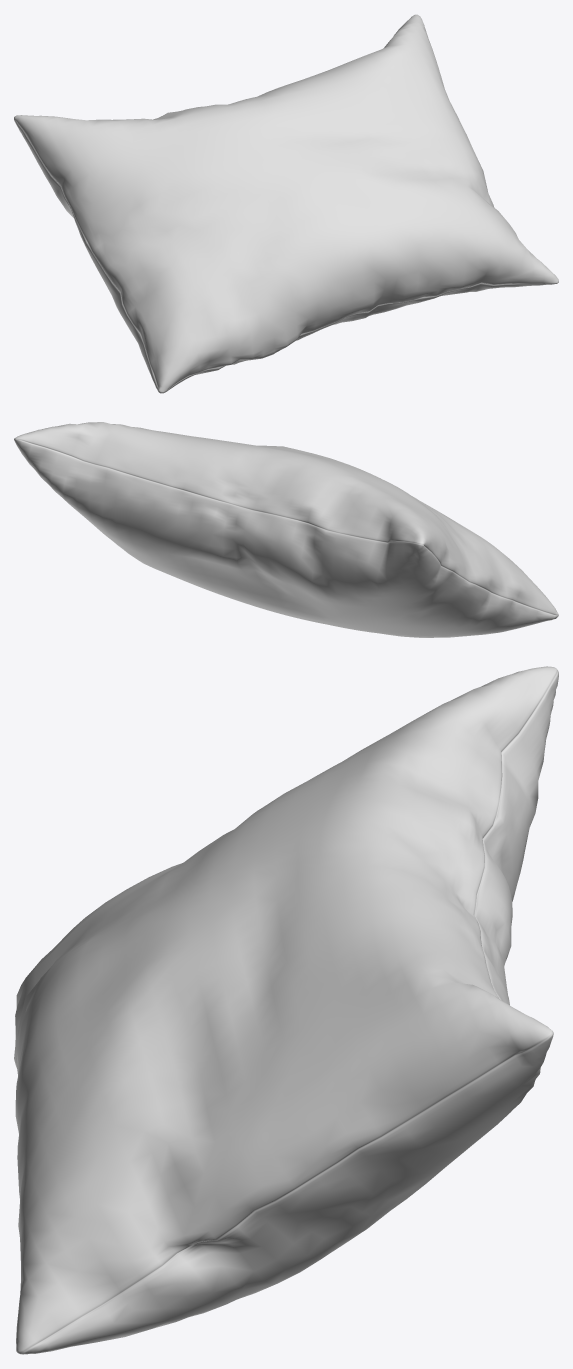
The model's file is Pillow03.glb.
3 renders of one model, top to bottom at view 1: azimuth 30°, elevation 25°; view 2: azimuth 150°, elevation 25°; view 3: azimuth 270°, elevation 25°, orthographic. The views are drawn at different scales.
Visible parts, largest first — view 1: BP_Pillow03; view 2: BP_Pillow03; view 3: BP_Pillow03.
Part boxes in pixels (bbox=[...]): BP_Pillow03: bbox=[14, 14, 558, 393]; BP_Pillow03: bbox=[14, 422, 558, 637]; BP_Pillow03: bbox=[14, 666, 558, 1354].
Size of the model in its own units: 0.631 by 0.2814 by 0.3835.
1 material, 1 textured.
